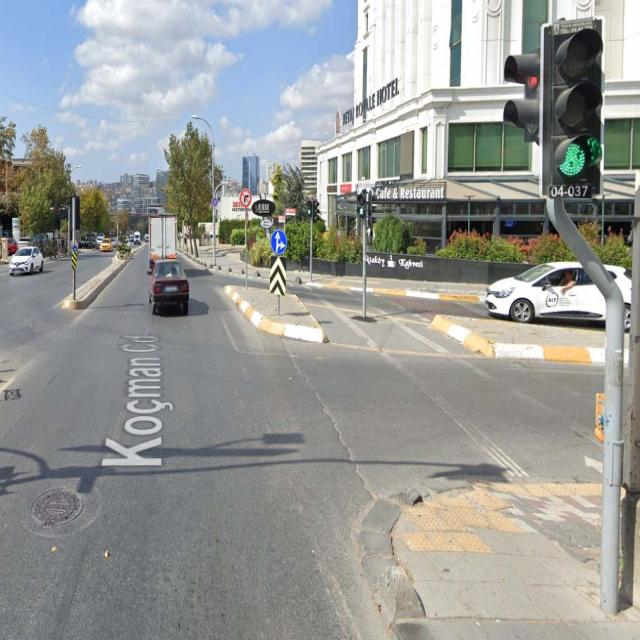ilerisag: (272, 230, 286, 254)
sagadonulmez: (240, 188, 252, 206)
yesil: (545, 23, 602, 195)
